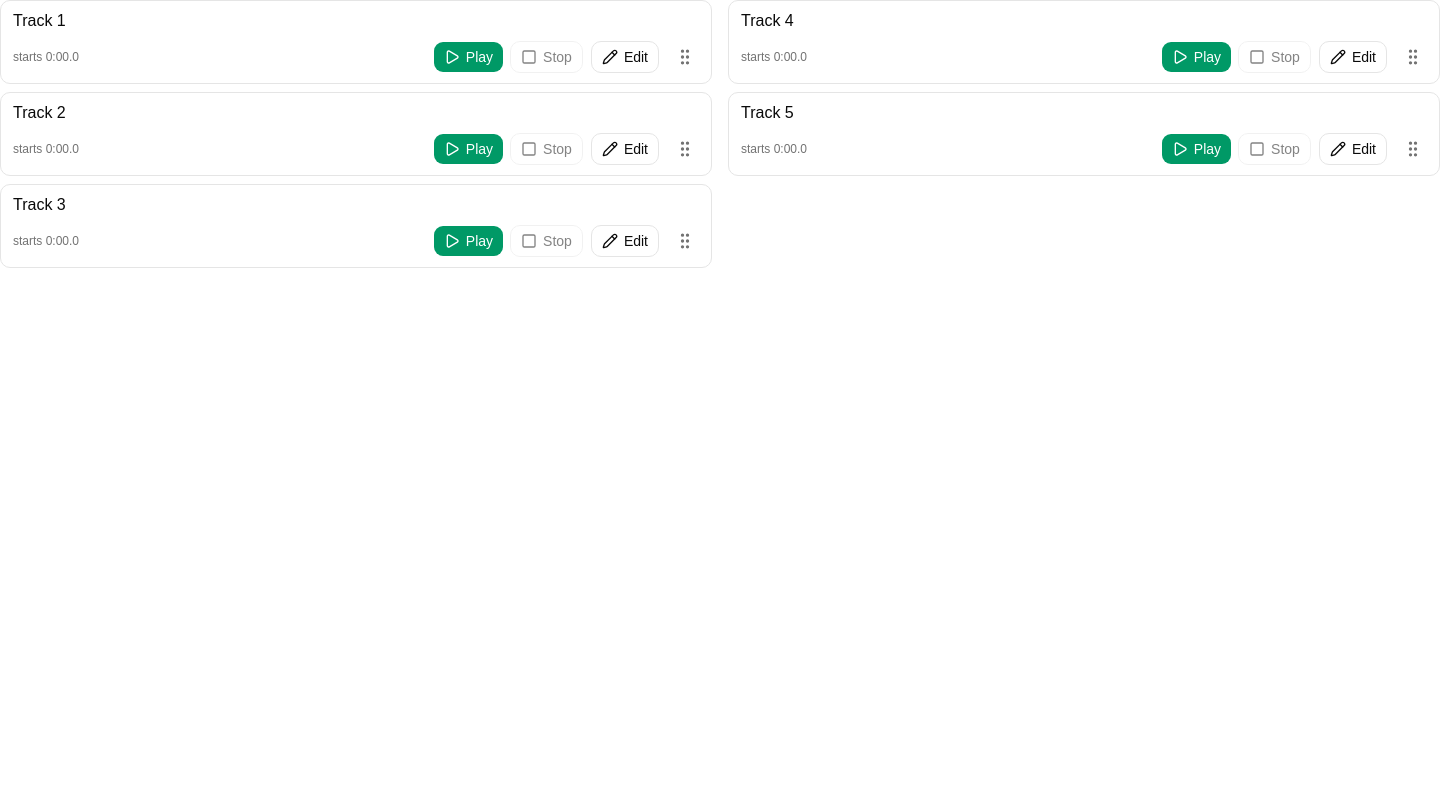
Edit opens the editor for that track
Later steps or results of the test are not shown.
Click the button with aria-label "Edit Track 3".
click(625, 241)  # box left=591, top=225, right=659, bottom=257
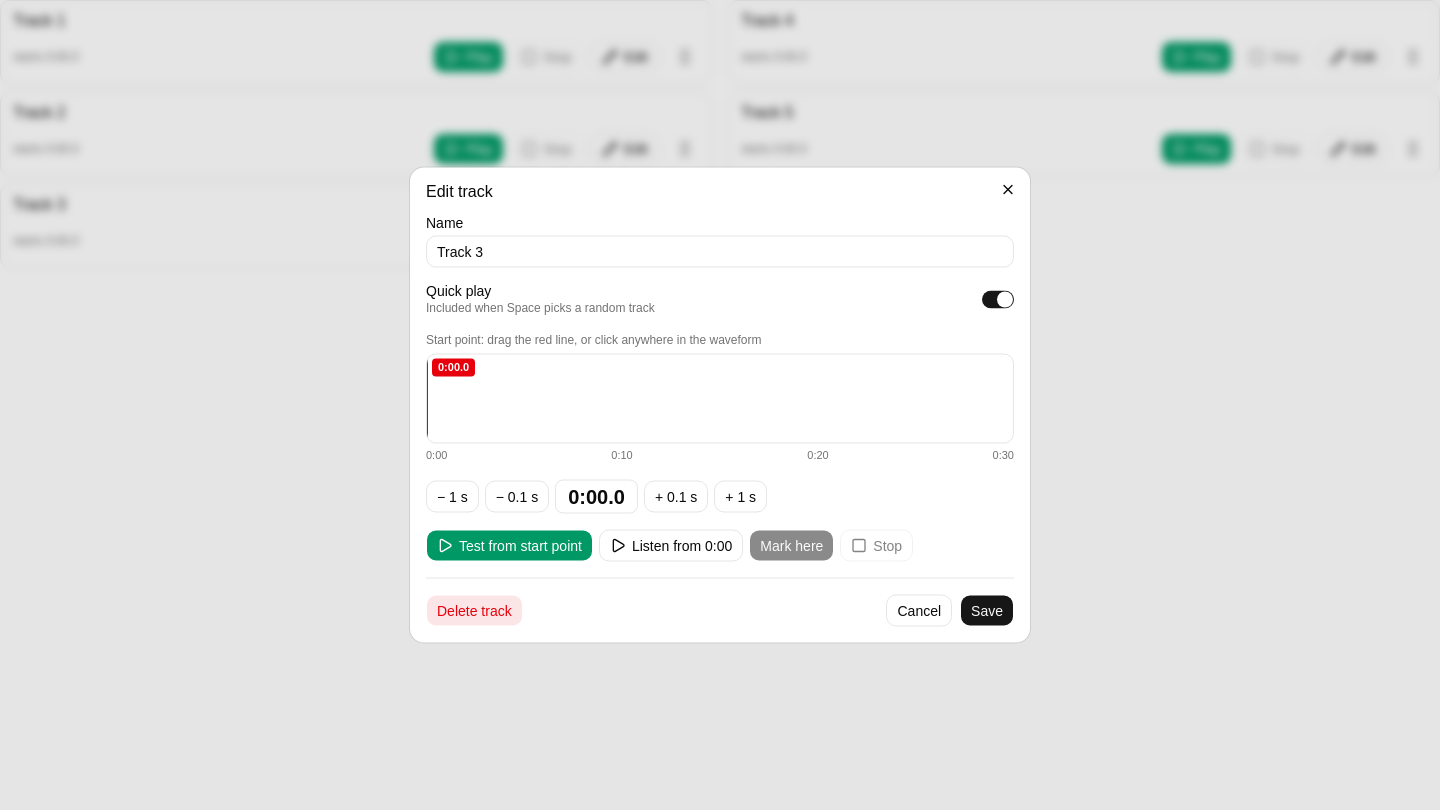
Now the field labelled "Name" holds "Track 3", box left=426, top=236, right=1014, bottom=268
